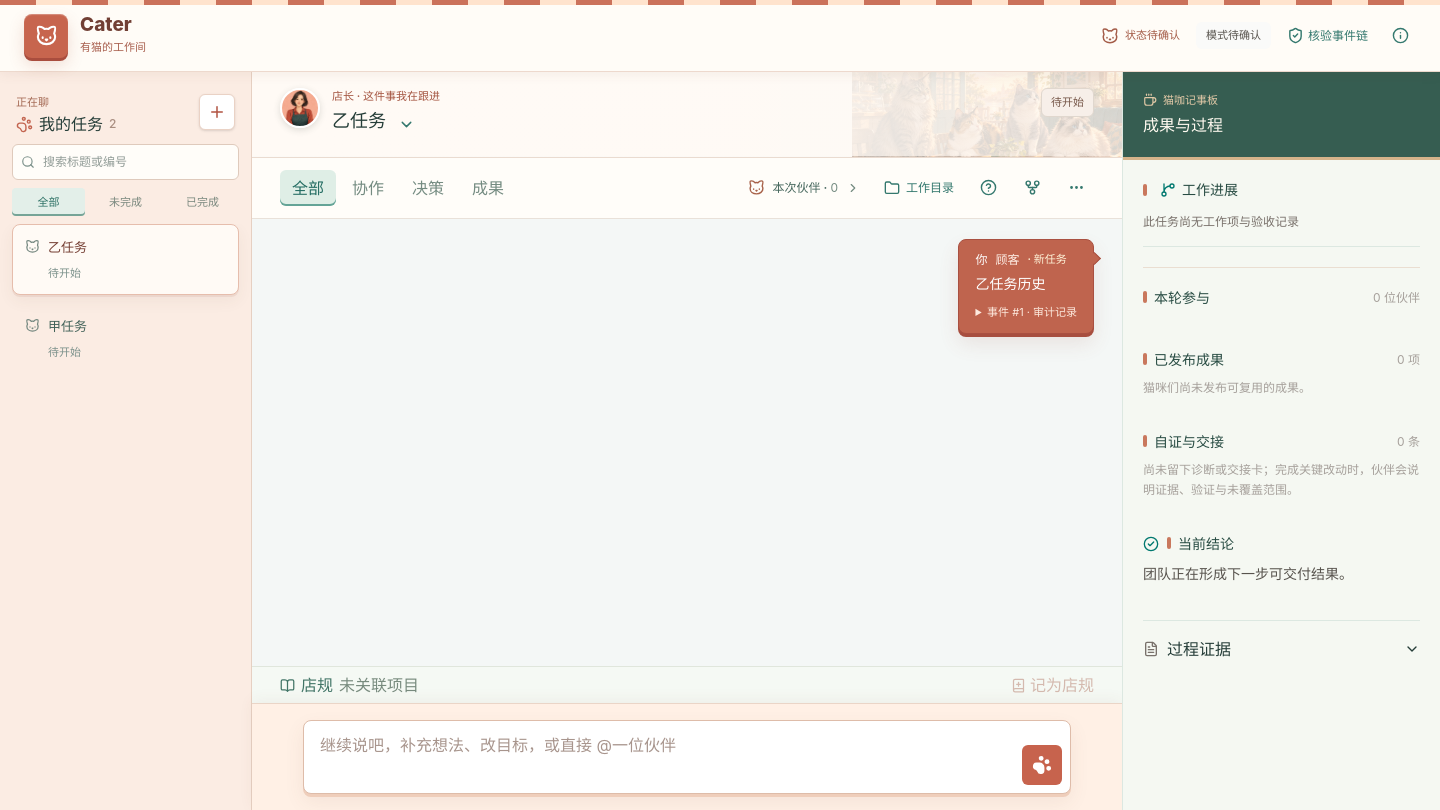
Scenario: HTTP 与网络失败后重试保持同一 UUID 和请求体，轮询不影响重试
Click the button named "基于此对话开新任务". click: (1032, 188)
box: 1014,170 -> 1050,206
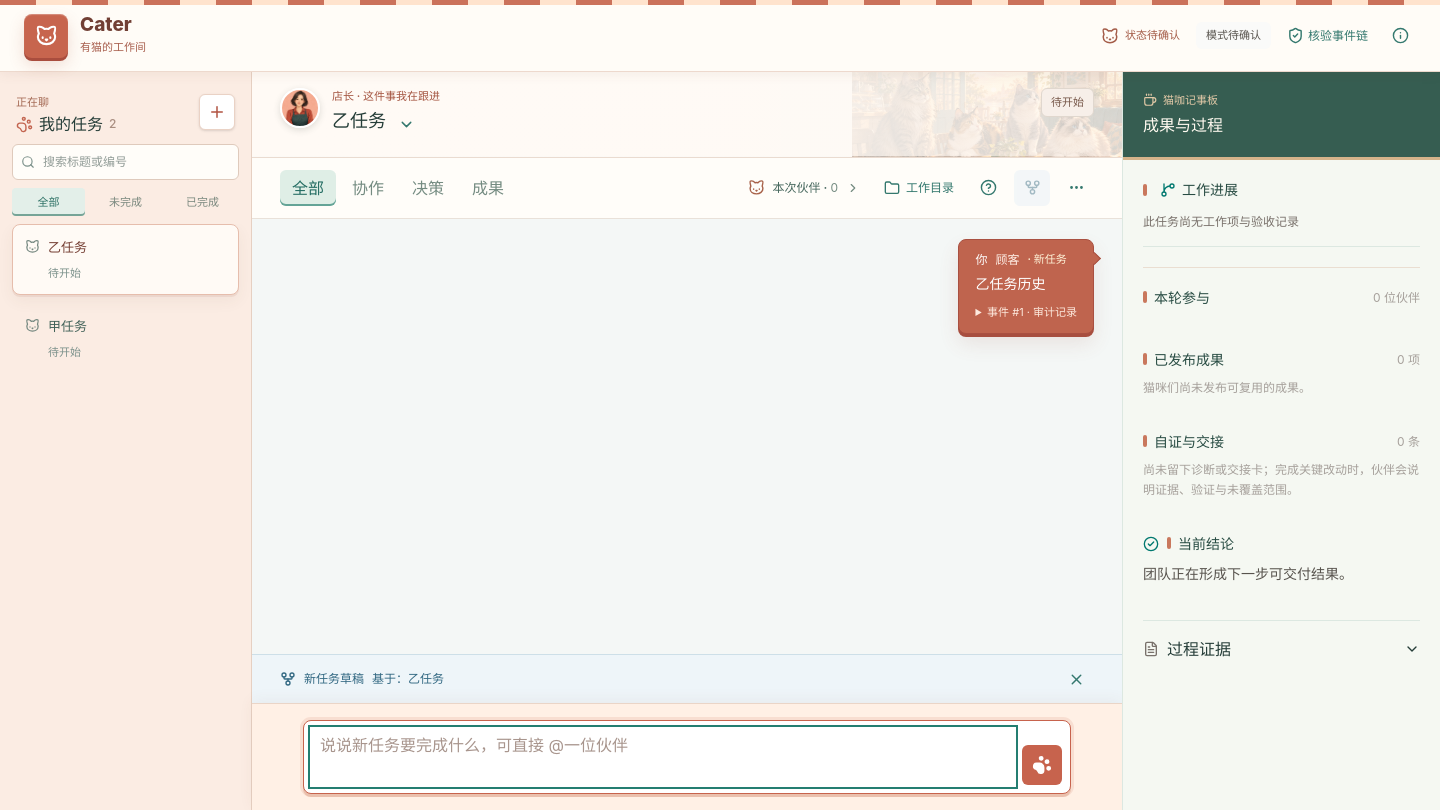
Type "重试同一目标" into the text box named "衍生任务目标". click: (663, 757)
box: 312,729 -> 1014,785
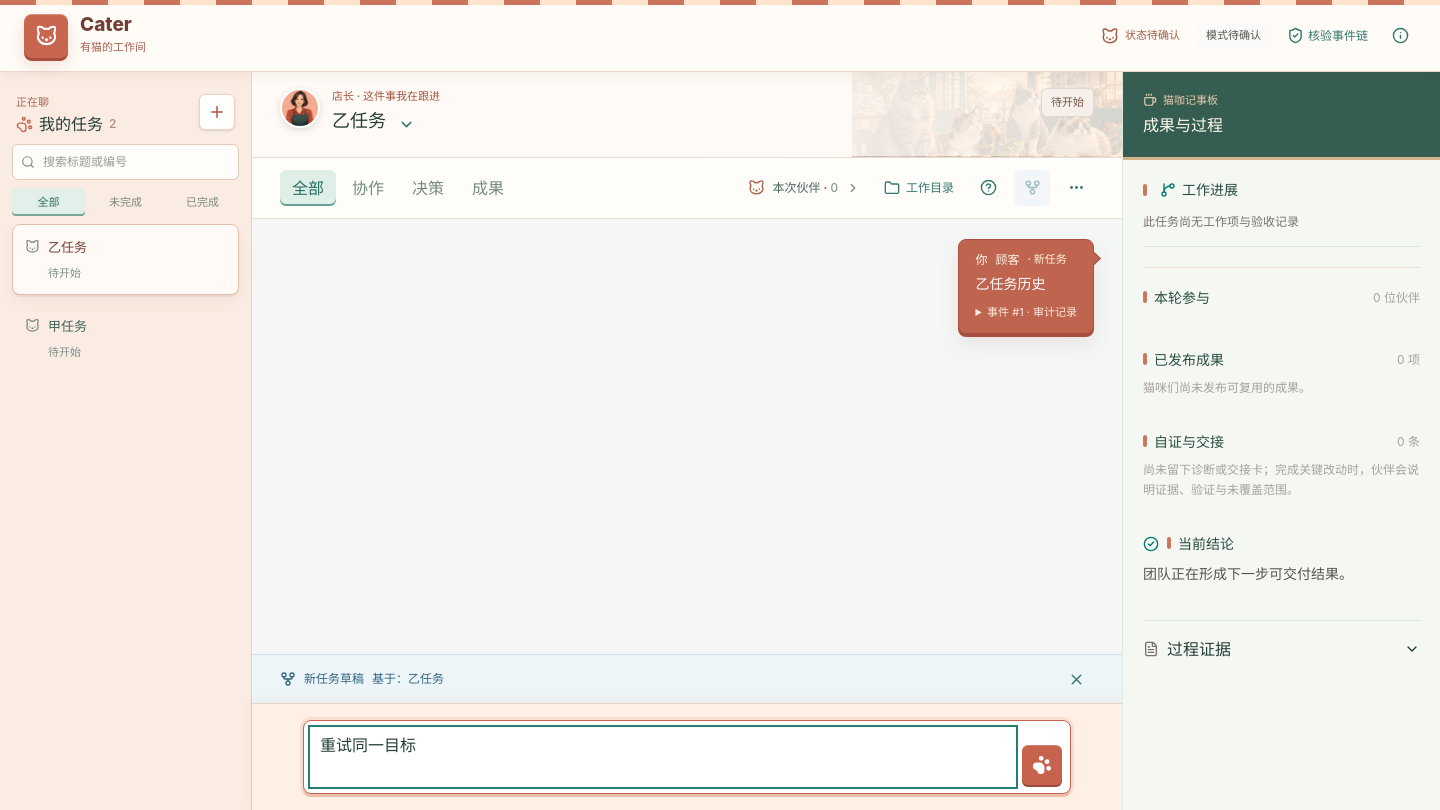
Click the button named "创建衍生任务". click: (1042, 765)
box: 1022,745 -> 1062,785
Wait 4000 ms
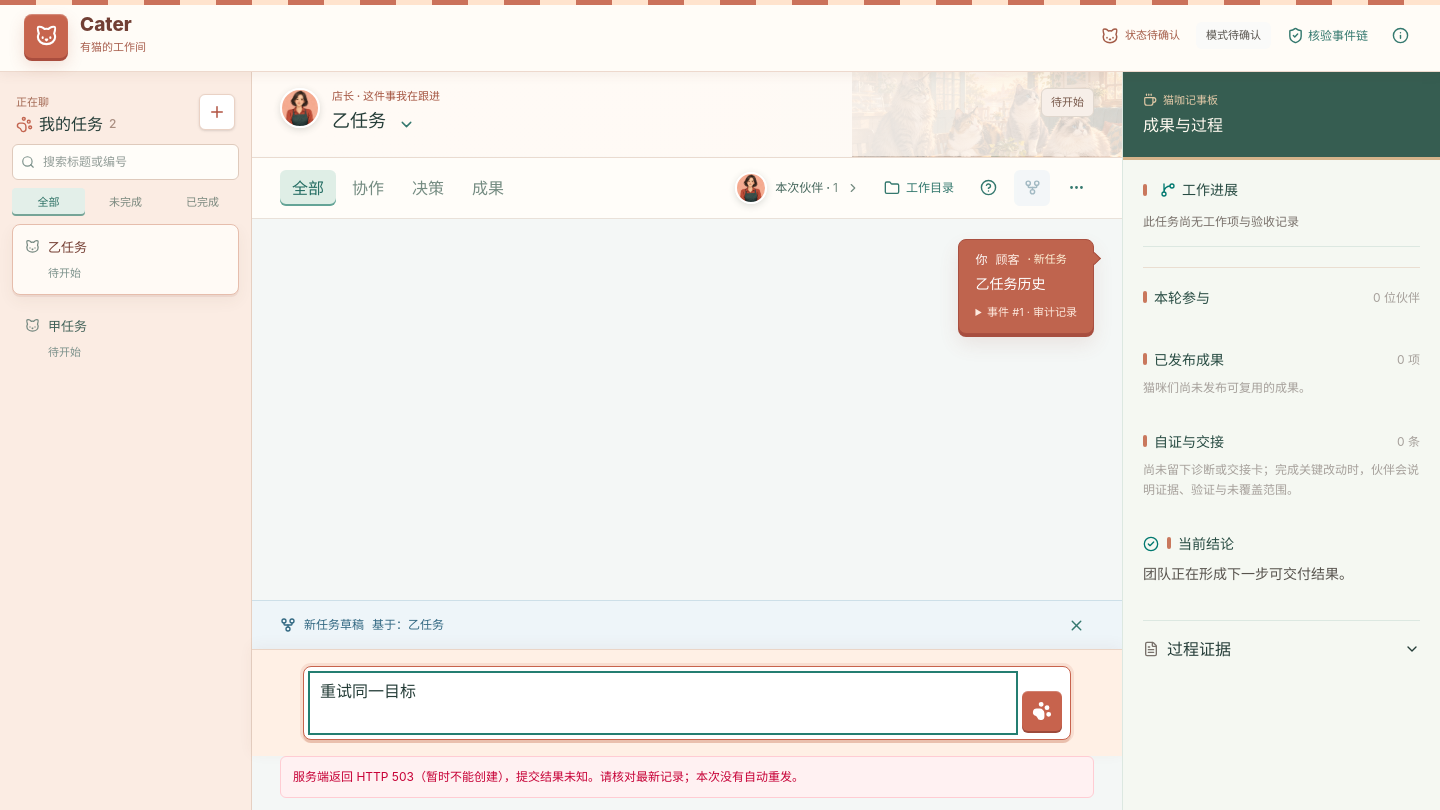
Result: the message shows "暂时不能创建" at 293,769 -> 804,784
Result: the message shows "提交结果未知" at 293,769 -> 804,784
Click the button named "创建衍生任务". click: (1042, 711)
box: 1022,691 -> 1062,731
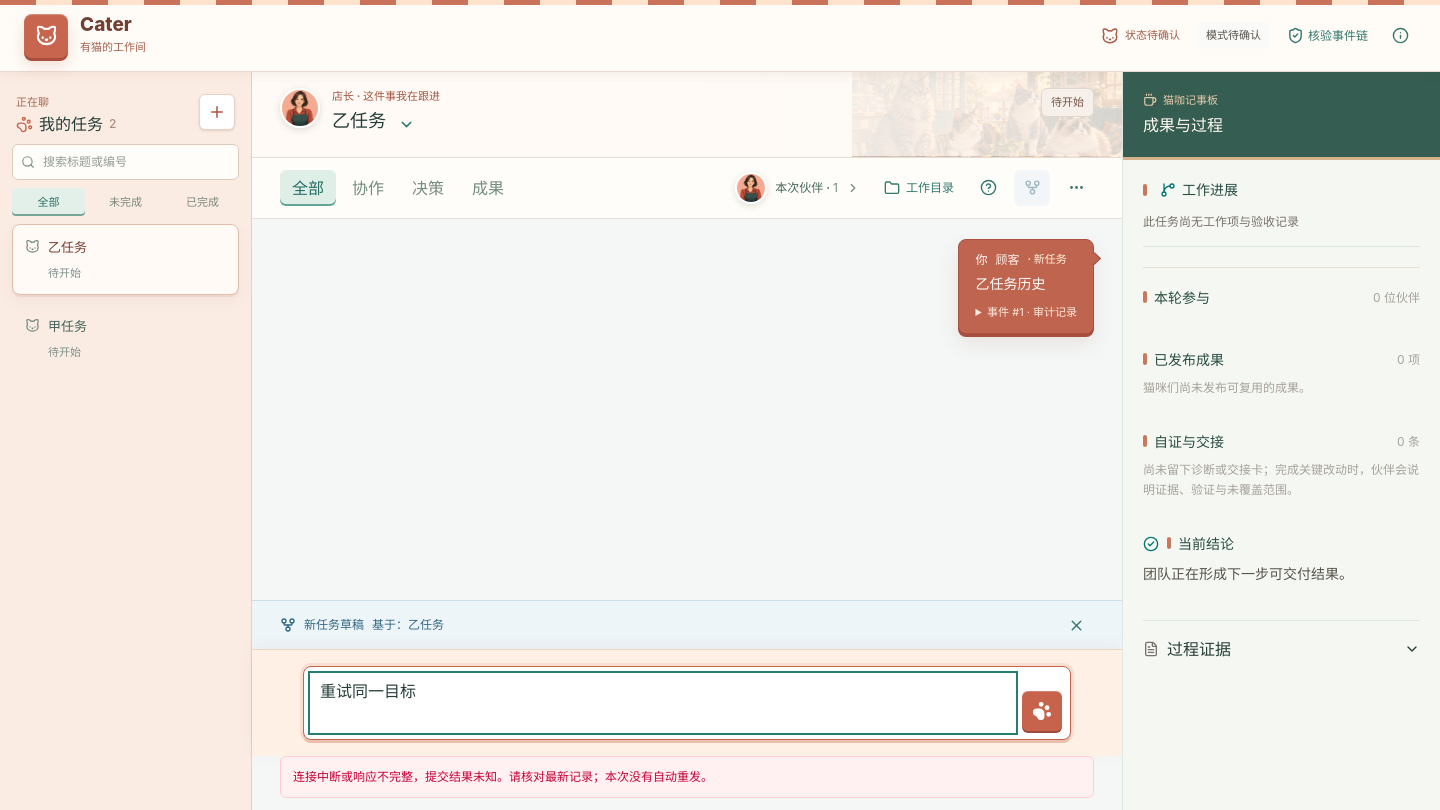
Result: the message shows "提交结果未知" at 293,769 -> 713,784
Click the button named "创建衍生任务". click: (1042, 711)
box: 1022,691 -> 1062,731
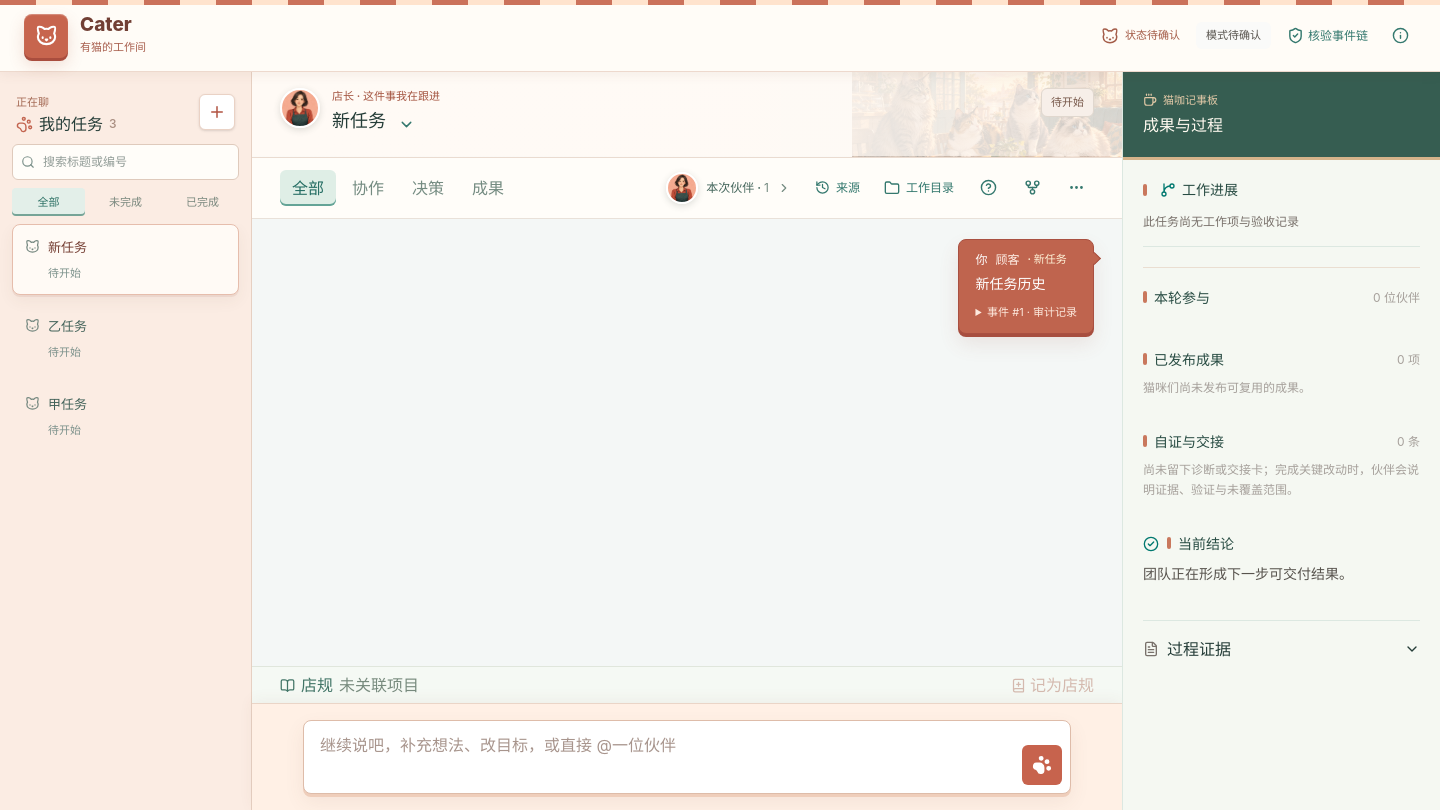
Result: the heading "新任务" is shown at 332,108 -> 386,133
